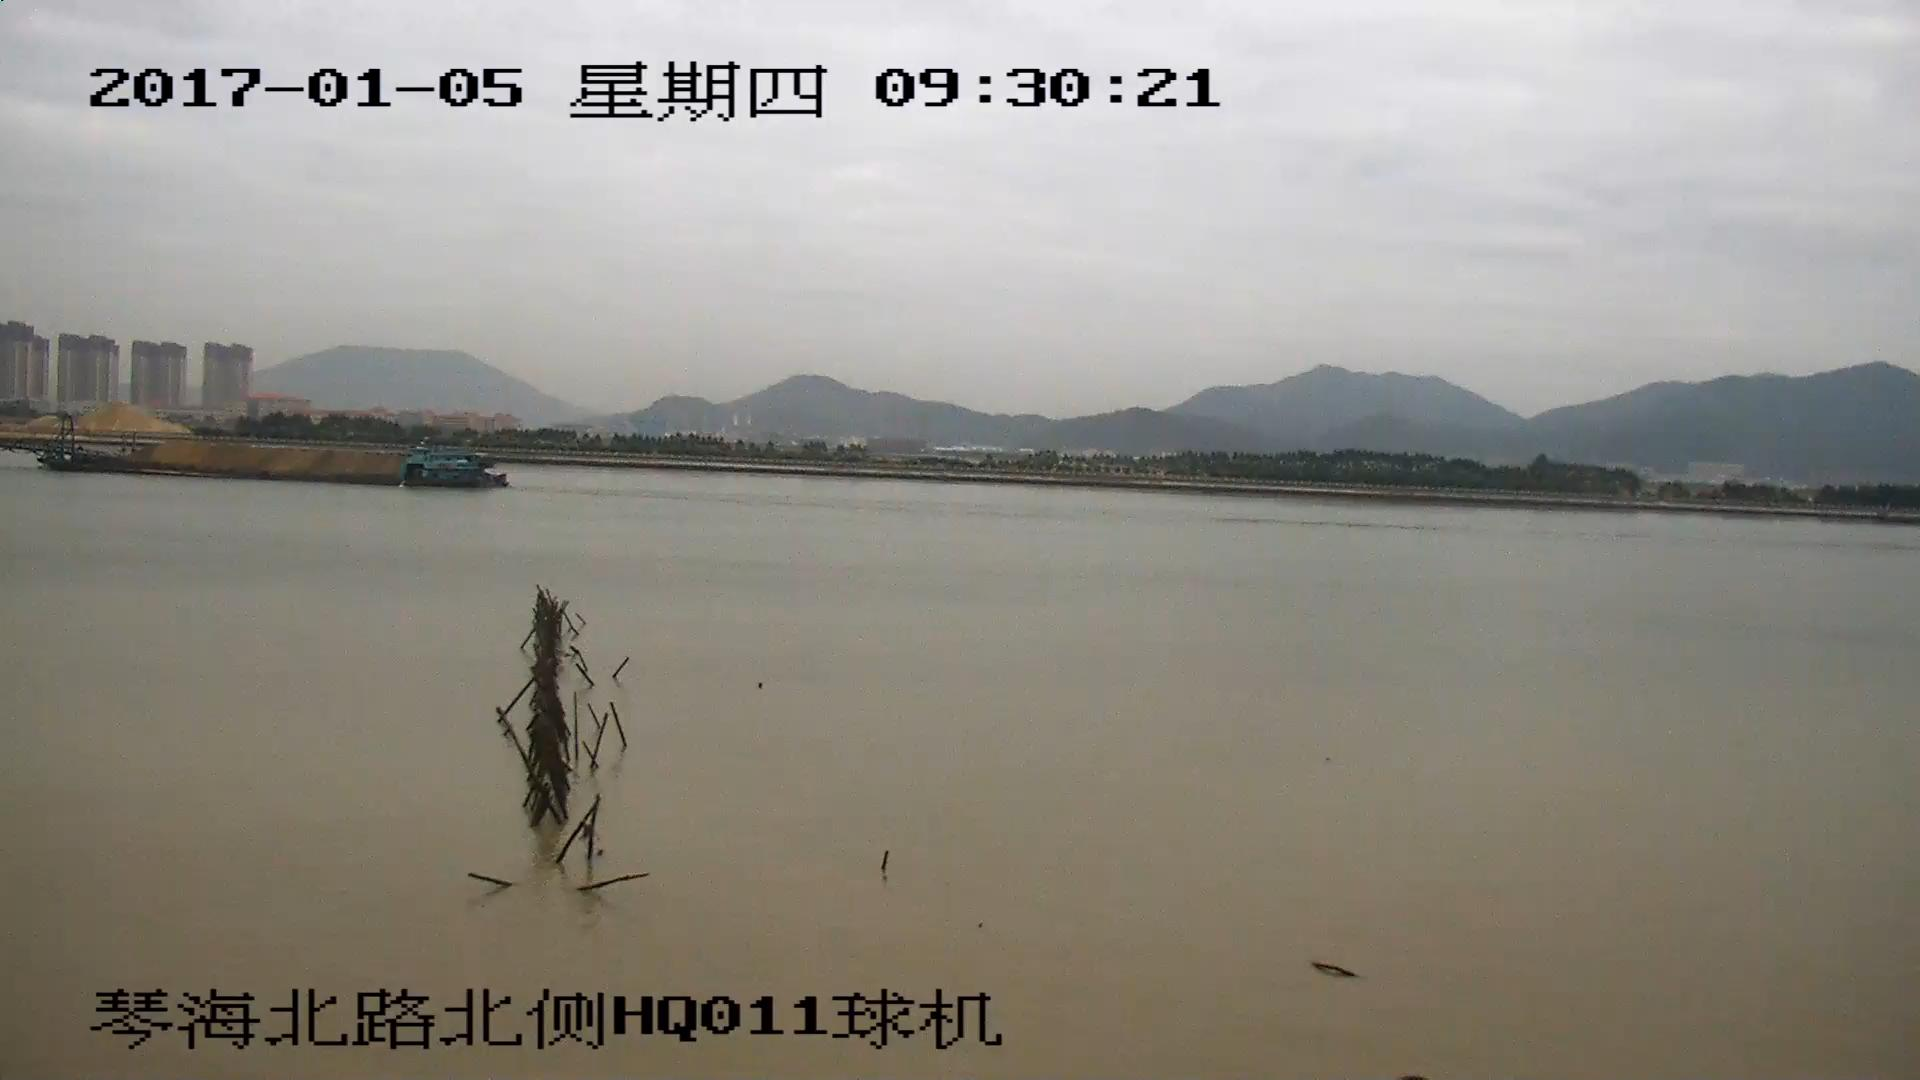ore carrier: (1, 415, 506, 490)
